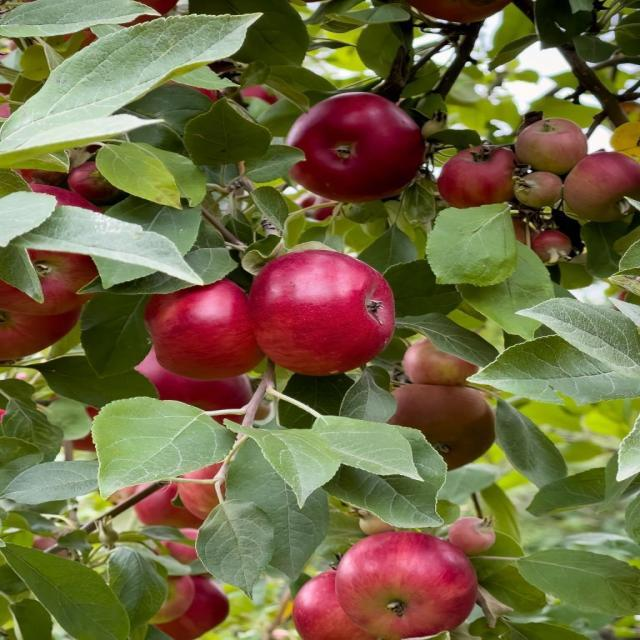Red Apple: (254, 254, 402, 367), (283, 98, 422, 201), (346, 536, 482, 630), (154, 273, 265, 381), (1, 185, 98, 308), (380, 384, 503, 469), (122, 347, 250, 427), (1, 288, 80, 371), (563, 150, 640, 226), (297, 568, 378, 640), (442, 146, 521, 207), (161, 578, 230, 636), (405, 333, 483, 383), (129, 475, 187, 531), (519, 121, 583, 168), (176, 467, 236, 515), (408, 1, 511, 25), (517, 174, 567, 213), (170, 75, 223, 109), (34, 528, 80, 565), (24, 158, 69, 191), (72, 163, 111, 200), (118, 1, 180, 24), (163, 529, 203, 564), (70, 408, 103, 448), (452, 518, 494, 548), (239, 81, 271, 116), (533, 232, 569, 262), (507, 221, 535, 252), (302, 196, 337, 219), (65, 31, 96, 54), (1, 79, 19, 114)
